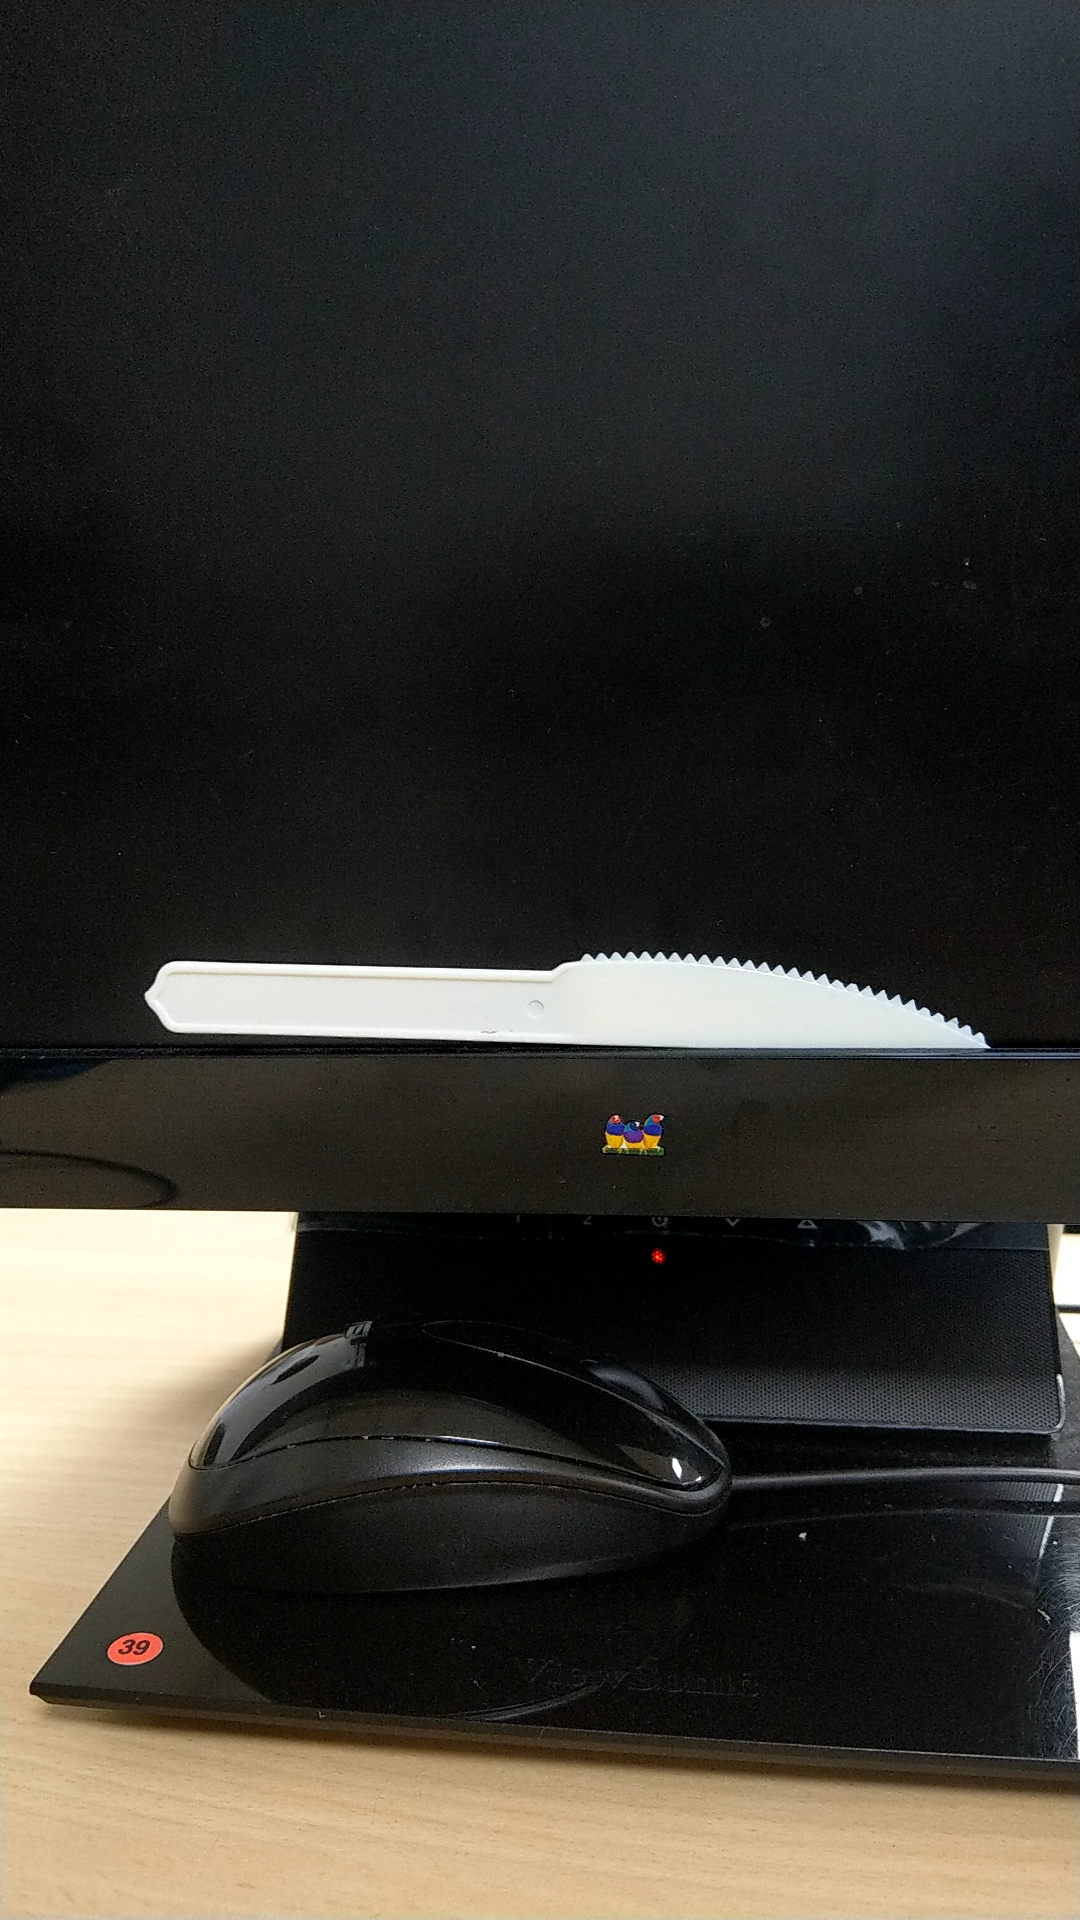knife: (102, 911, 1015, 1079)
